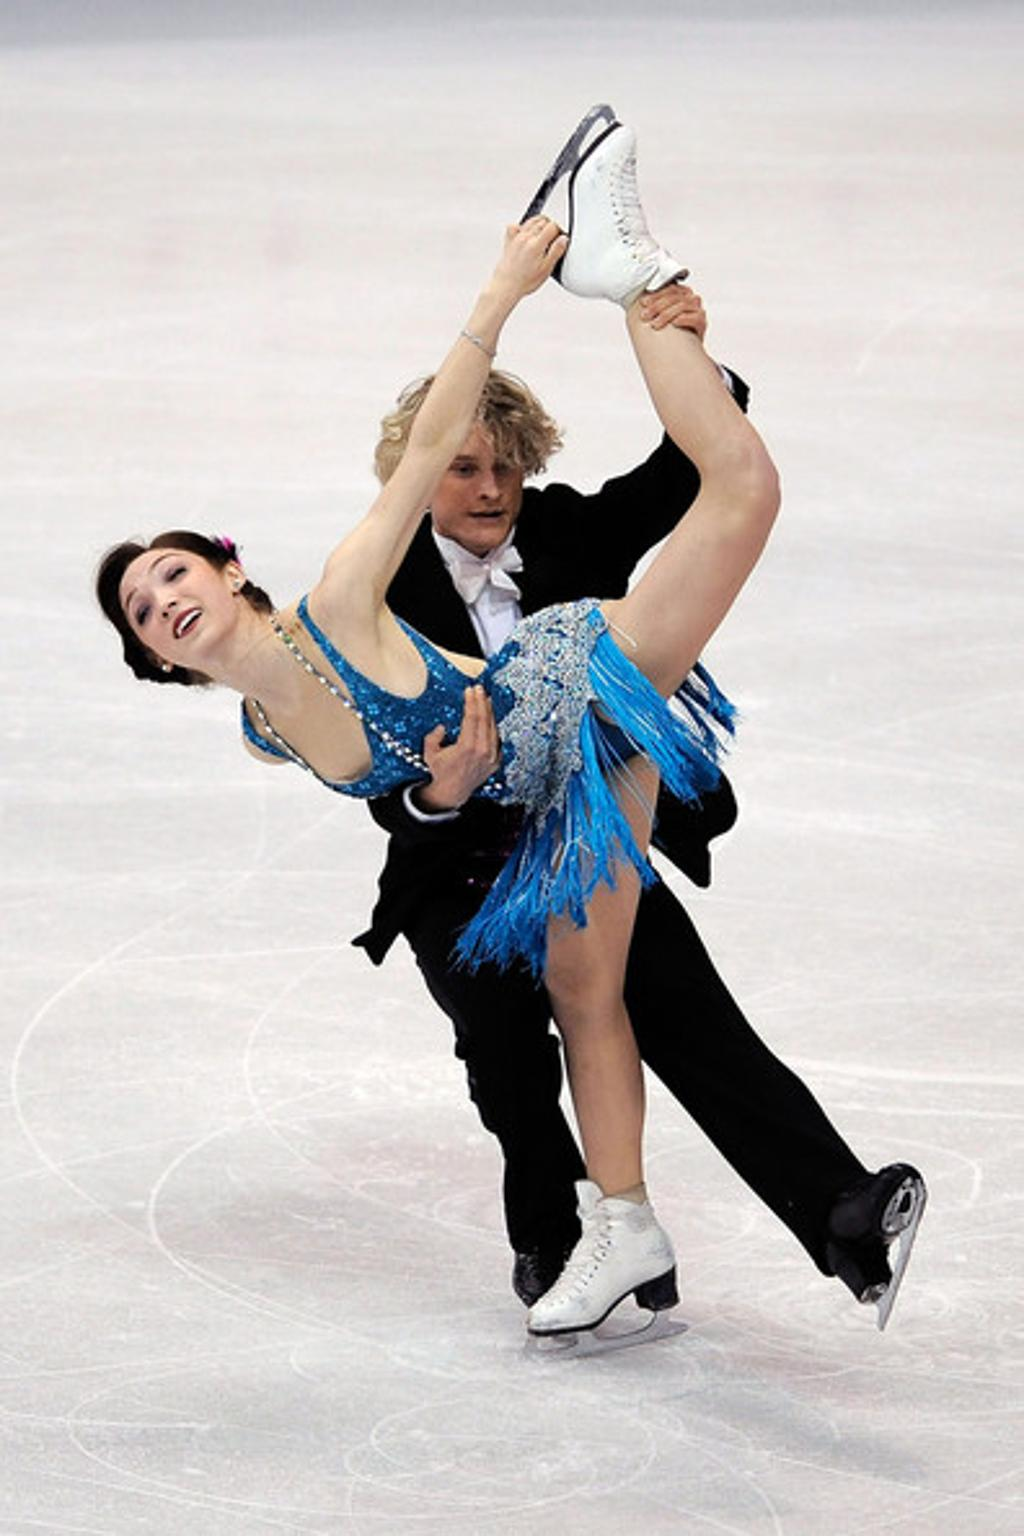face: (117, 544, 231, 661), (426, 426, 522, 546)
